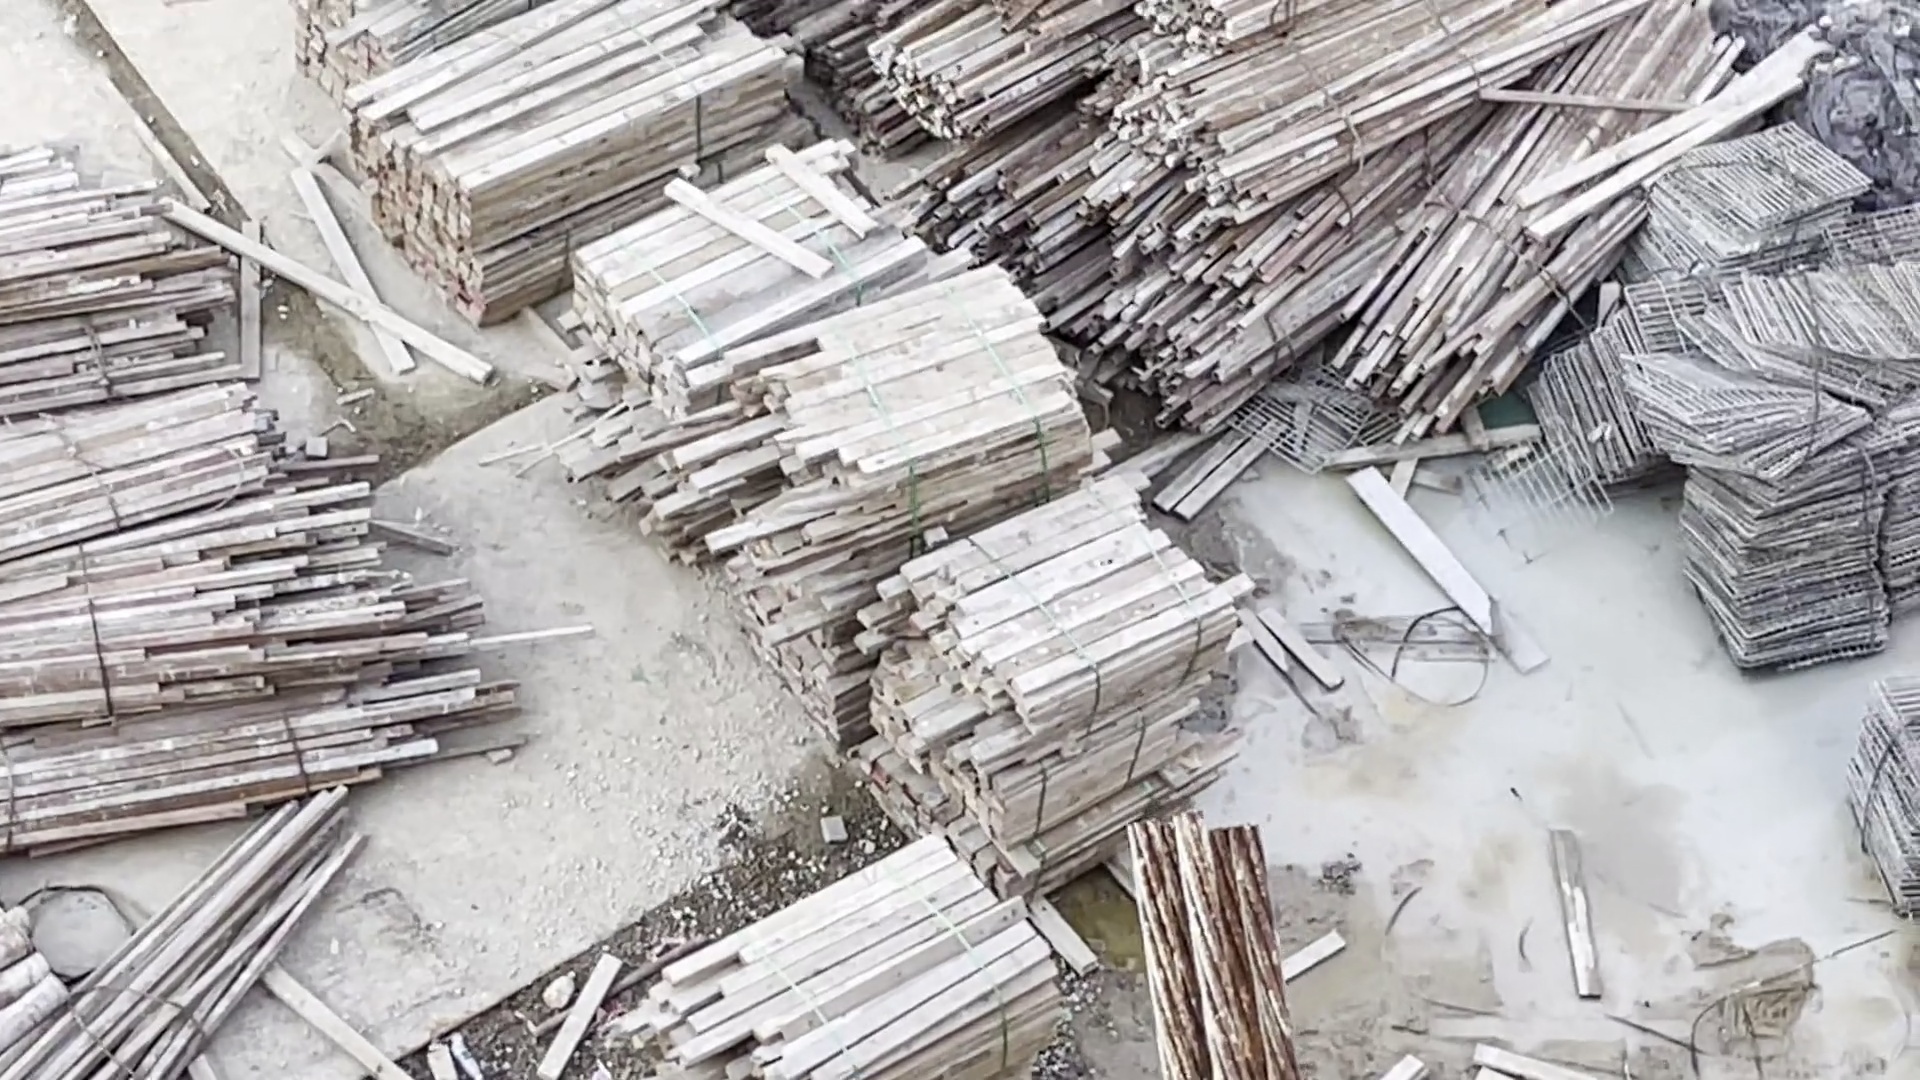wood: (600, 198, 1236, 902), (791, 1, 1695, 451), (1, 148, 471, 843), (295, 3, 816, 316), (634, 822, 1120, 1080)
